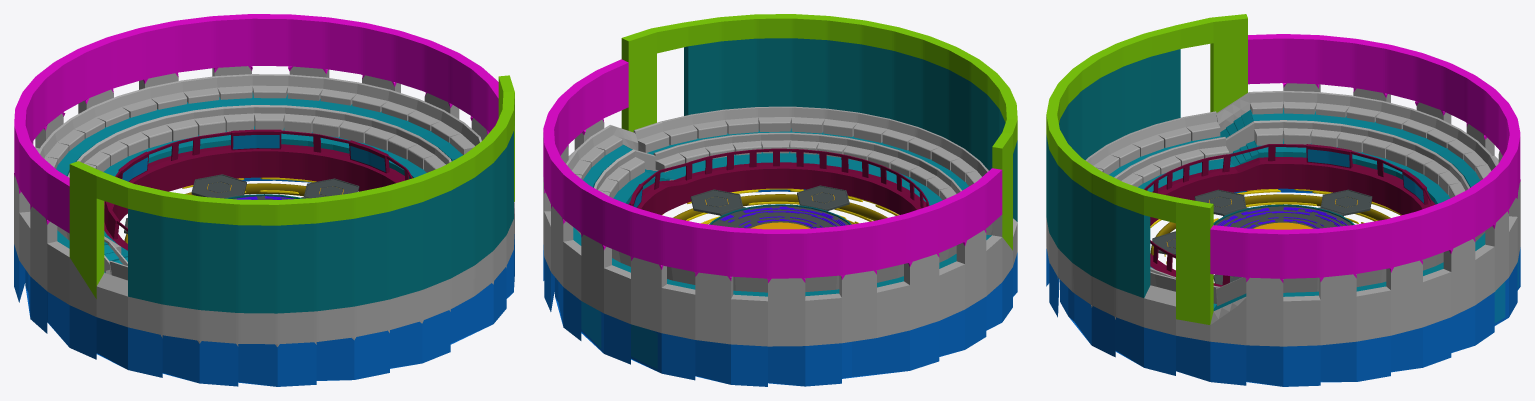
The model's file is arena2.fbx.
3 renders of one model, left to right at view 1: azimuth 30°, elevation 25°; view 2: azimuth 150°, elevation 25°; view 3: azimuth 270°, elevation 25°, orthographic. The views are drawn at different scales.
Visible parts, largest first — view 1: pCylinder6, polySurface6, pCylinder3; view 2: pCylinder6, polySurface6, pCylinder3, polygon3, polygon83; view 3: pCylinder6, polySurface6, pCylinder3, polygon3, polygon83.
Boxes of the visible parts, <box> form: pCylinder6: <box>14,14,514,386</box>; polySurface6: <box>124,174,359,233</box>; pCylinder3: <box>124,183,306,243</box>; pCylinder6: <box>543,14,1017,386</box>; polySurface6: <box>690,185,851,229</box>; pCylinder3: <box>673,194,887,220</box>; polygon3: <box>720,206,845,228</box>; polygon83: <box>661,188,898,224</box>; pCylinder6: <box>1046,14,1520,386</box>; polySurface6: <box>1152,189,1372,284</box>; pCylinder3: <box>1150,194,1390,255</box>; polygon3: <box>1217,207,1347,228</box>; polygon83: <box>1150,189,1401,264</box>.
Size of the model in its own units: 8538 by 3626 by 8538.
